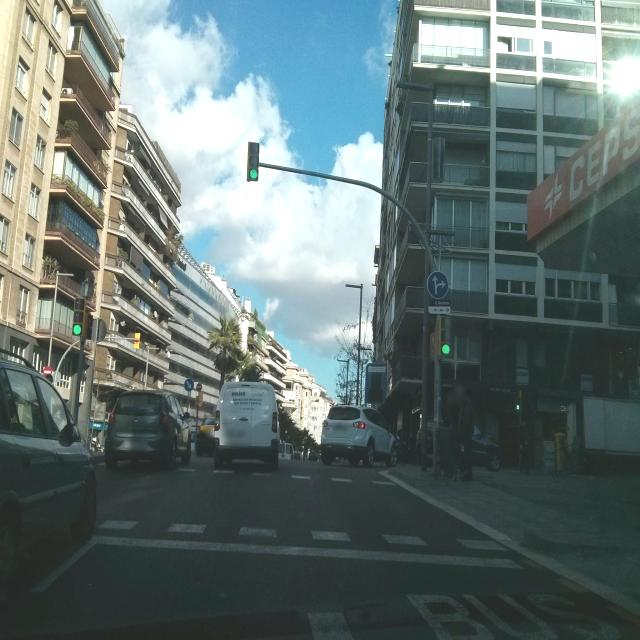car: (0, 342, 99, 611), (104, 388, 192, 472), (213, 380, 281, 472), (320, 404, 398, 468), (422, 428, 502, 474), (195, 413, 220, 458)
